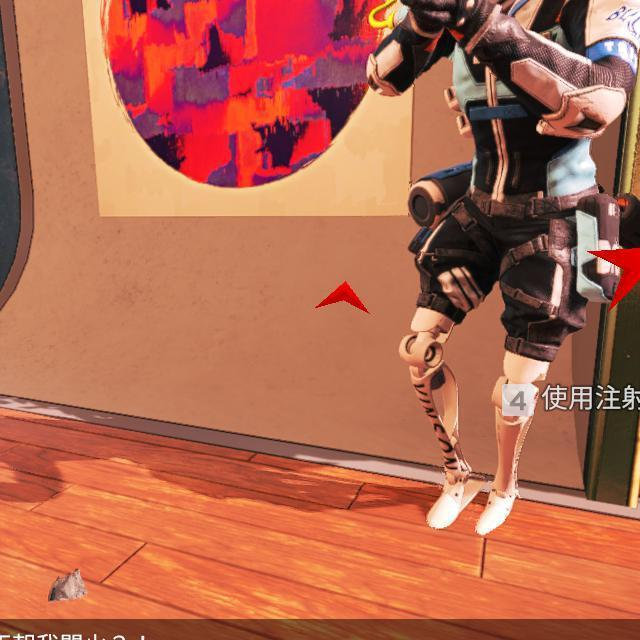avatar: (363, 0, 640, 536)
